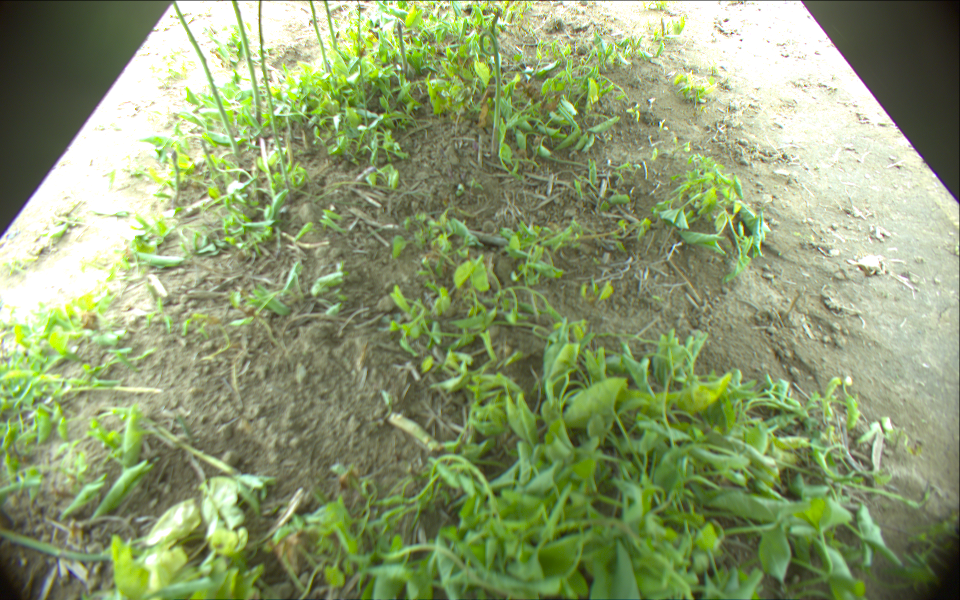aspa: (171, 1, 242, 159), (257, 1, 298, 201), (232, 1, 261, 127), (481, 30, 503, 153), (386, 409, 442, 456), (308, 1, 329, 72), (198, 140, 221, 190), (395, 19, 408, 77), (323, 1, 338, 51), (169, 152, 179, 206)
